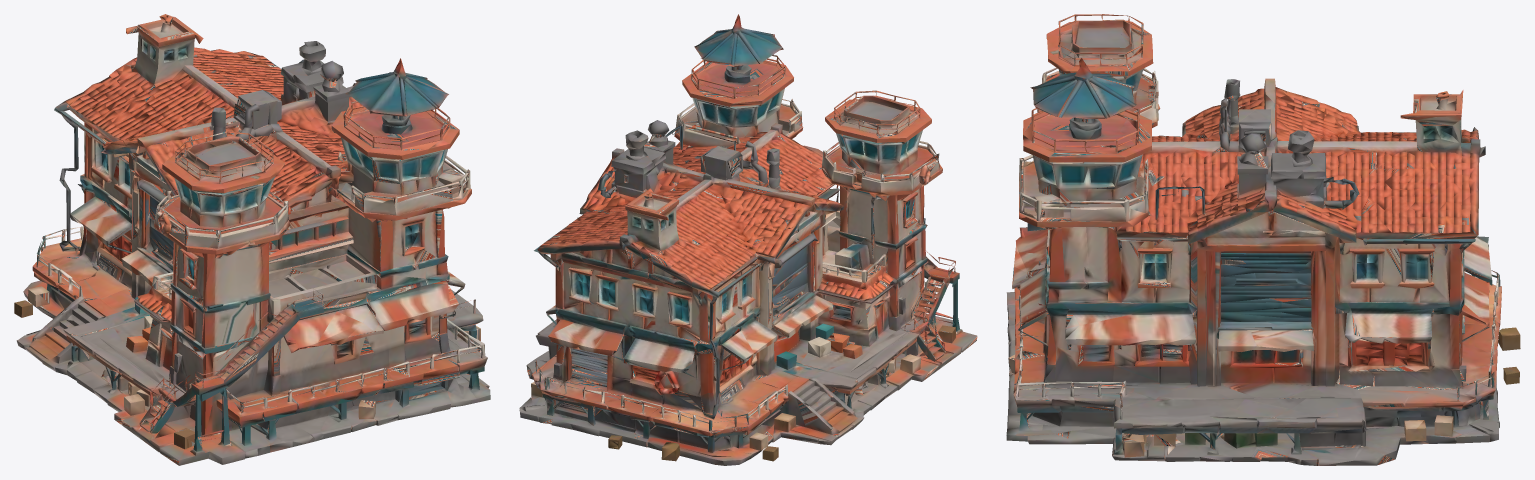
The model's file is harbor-hq-mobile.glb.
3 renders of one model, left to right at view 1: azimuth 30°, elevation 25°; view 2: azimuth 150°, elevation 25°; view 3: azimuth 270°, elevation 25°, orthographic. The views are drawn at different scales.
Parts seen in each view (by area): view 1: model; view 2: model; view 3: model.
Part boxes in pixels (<box>): model: <box>14,14,490,465</box>; model: <box>519,14,977,465</box>; model: <box>1006,14,1520,465</box>.
Size of the model in its own units: 1.61 by 1.44 by 1.89.
1 material, 1 textured.
